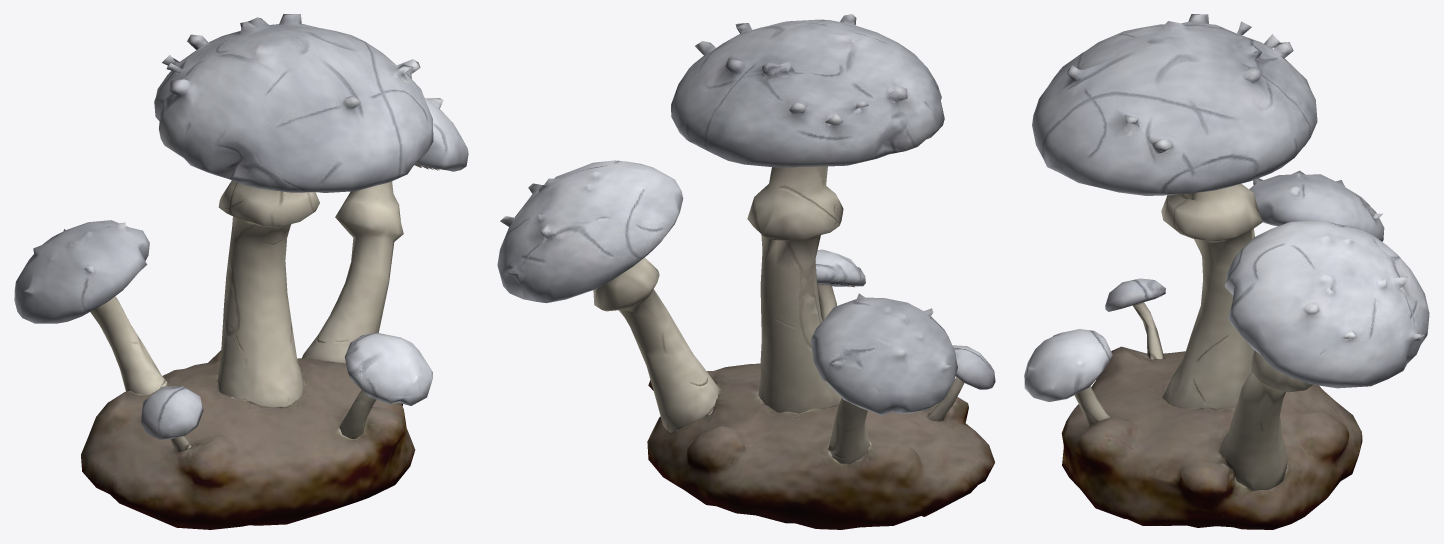
File: glowcap.glb
3 renders of one model, left to right at view 1: azimuth 30°, elevation 25°; view 2: azimuth 150°, elevation 25°; view 3: azimuth 270°, elevation 25°, orthographic. The views are drawn at different scales.
Parts seen in each view (by area): view 1: glow_cap, soil, stem; view 2: glow_cap, soil, stem; view 3: glow_cap, soil, stem.
Part boxes in pixels (left/top/right/bottom): glow_cap: left=14, top=14, right=468, bottom=439; soil: left=81, top=350, right=415, bottom=529; stem: left=90, top=180, right=403, bottom=451; glow_cap: left=497, top=14, right=995, bottom=415; soil: left=647, top=363, right=994, bottom=529; stem: left=593, top=166, right=964, bottom=463; glow_cap: left=1024, top=14, right=1429, bottom=401; soil: left=1061, top=346, right=1362, bottom=529; stem: left=1074, top=184, right=1312, bottom=490.
Size of the model in its own units: 0.5577 by 0.5536 by 0.4372.
Materials: 4 (4 with a texture image).
